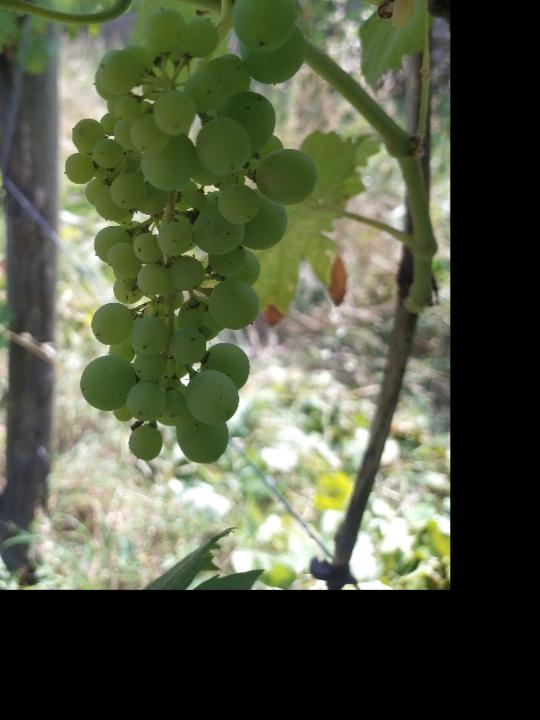grape: (61, 0, 320, 467)
